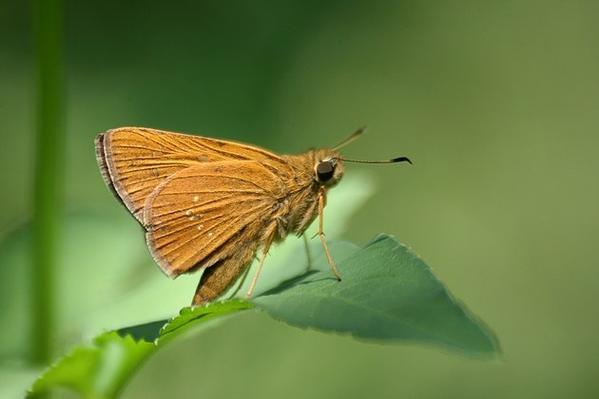Hesperiidae: (95, 113, 414, 319)
